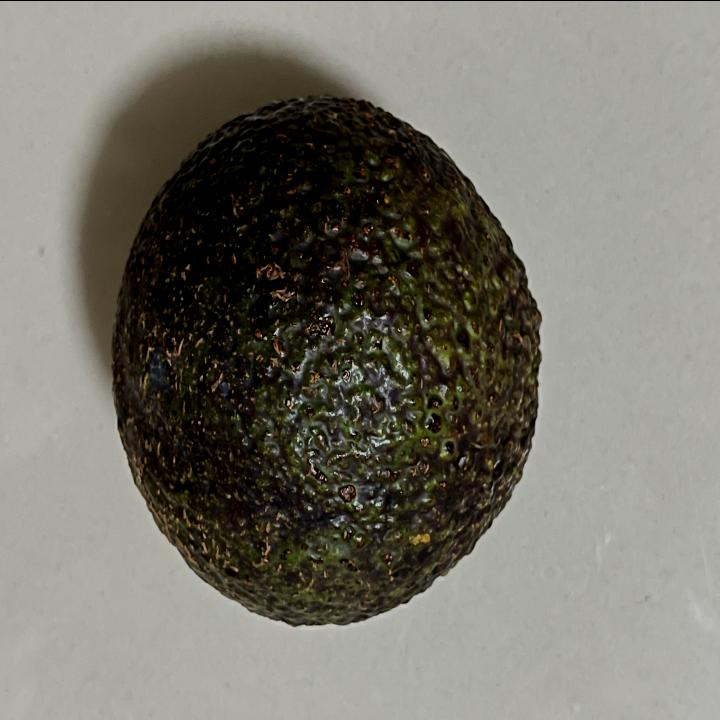Level1: (94, 81, 554, 641)
